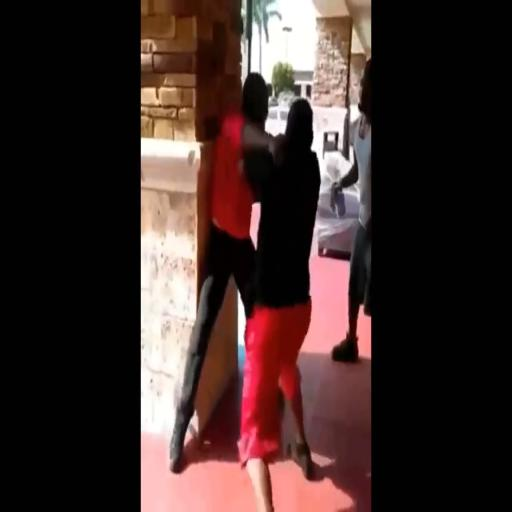violencia: (161, 62, 326, 512)
